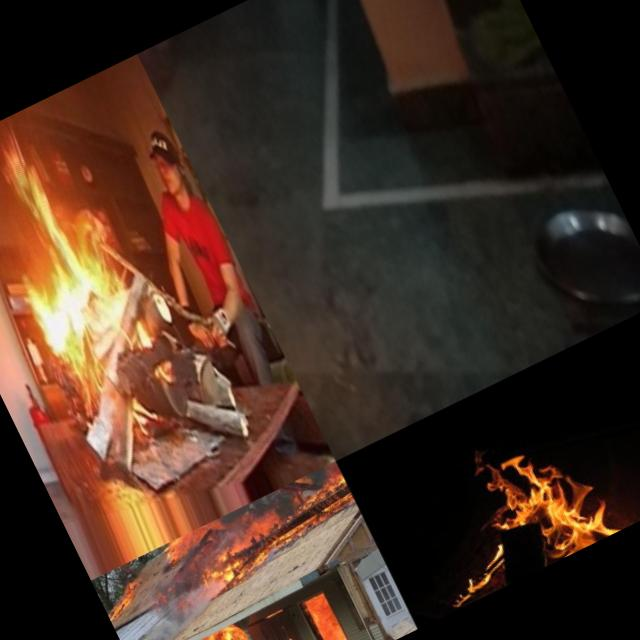fire: (401, 402, 640, 609), (0, 111, 163, 387), (164, 496, 294, 602), (283, 462, 357, 531), (298, 584, 364, 640), (160, 611, 281, 640), (101, 582, 150, 623)
smoke: (131, 570, 221, 640)
